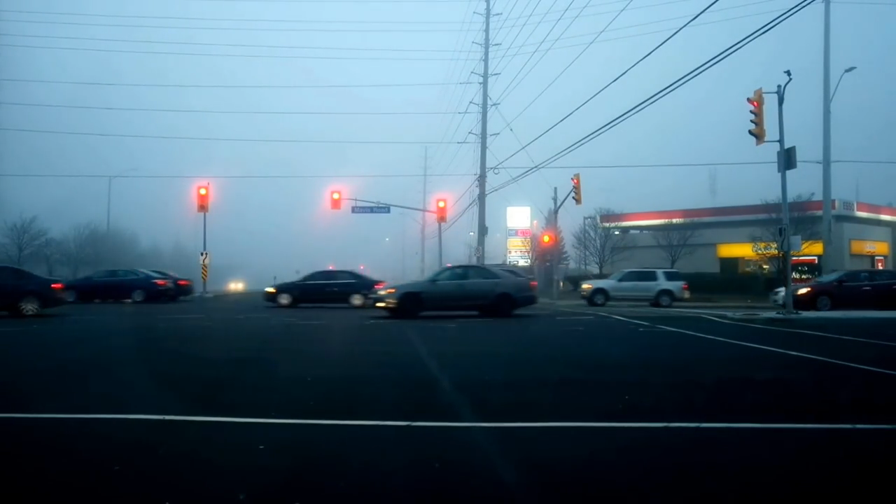car: (377, 263, 540, 319), (60, 267, 196, 307), (782, 266, 896, 313), (262, 267, 389, 306), (578, 266, 691, 309), (1, 261, 70, 320)
